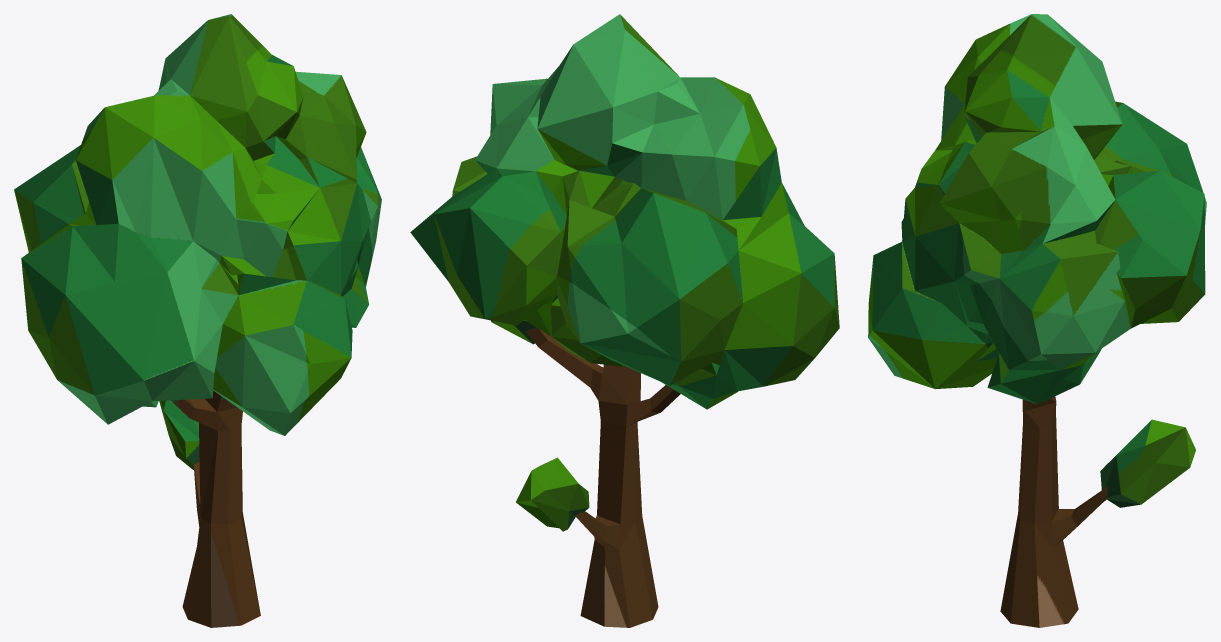
The model's file is Tree3.gltf.
3 renders of one model, left to right at view 1: azimuth 30°, elevation 25°; view 2: azimuth 150°, elevation 25°; view 3: azimuth 270°, elevation 25°, orthographic.
Parts seen in each view (by area): view 1: _4_tree_Icosphere.043; view 2: _4_tree_Icosphere.043; view 3: _4_tree_Icosphere.043.
Part boxes in pixels (x1,y1,x2,y2): _4_tree_Icosphere.043: [14, 14, 381, 627]; _4_tree_Icosphere.043: [410, 14, 839, 627]; _4_tree_Icosphere.043: [868, 14, 1206, 627].
Bounding box in the file's own units: 1.1 × 1.8 × 0.9209.
1 material, 1 textured.
